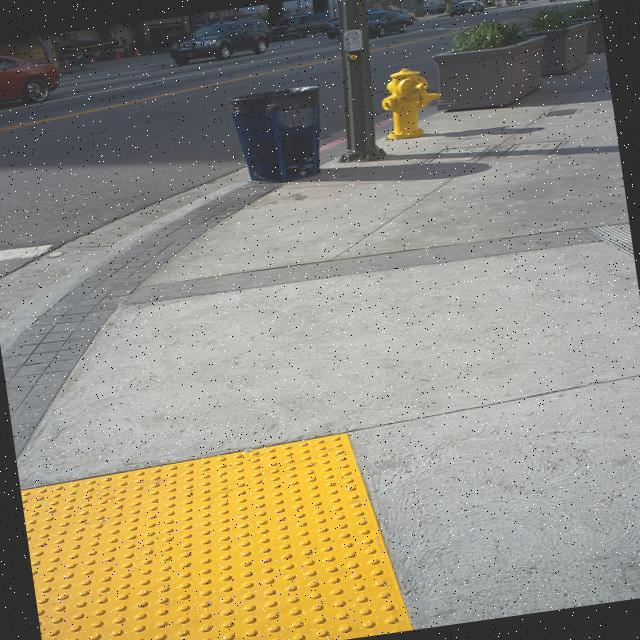fire_hydrant: (374, 62, 445, 142)
